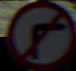Don't turn right: (9, 5, 66, 60)
